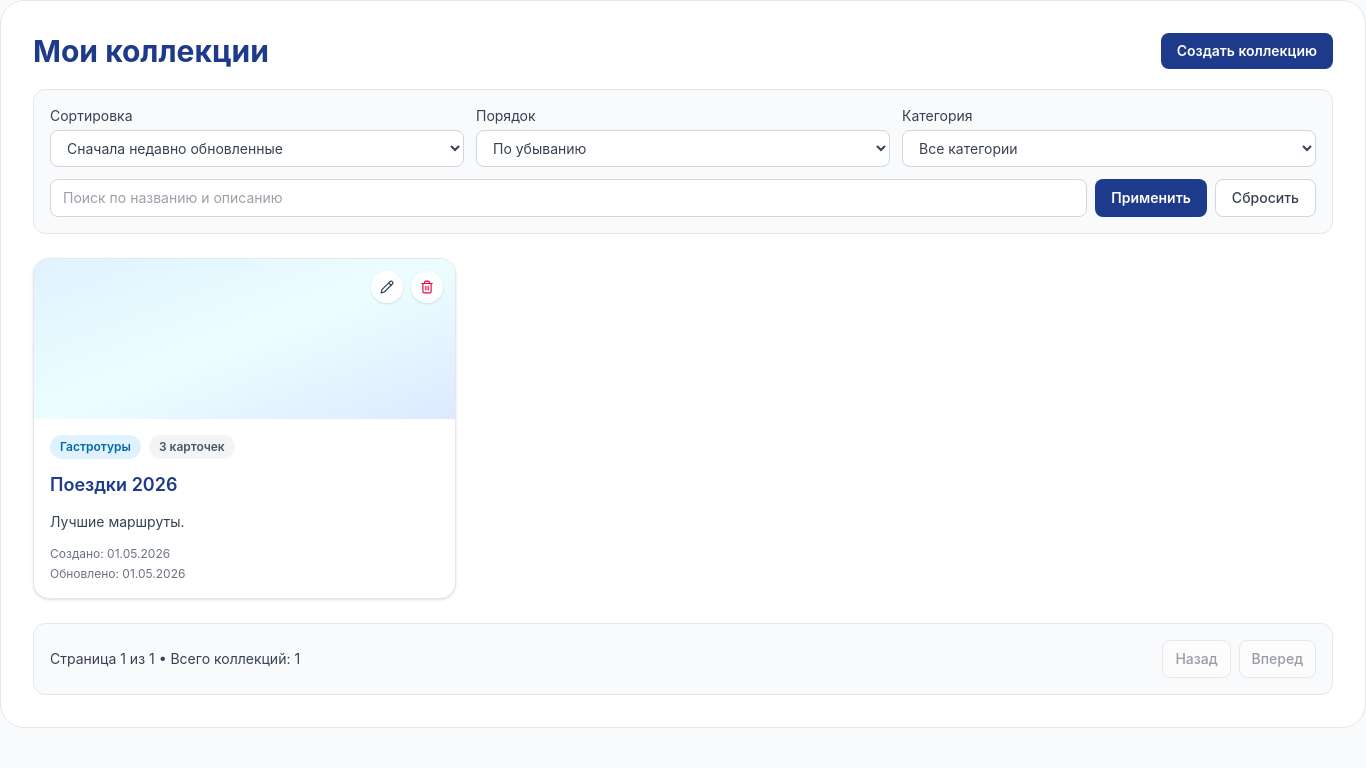
Test: CollectionsPage › shows submit error inside create form
Expected: the heading "Мои коллекции" is shown, [33, 33, 269, 69]
Click the button "Создать коллекцию".
click(1247, 51)  # box [1161, 33, 1333, 69]
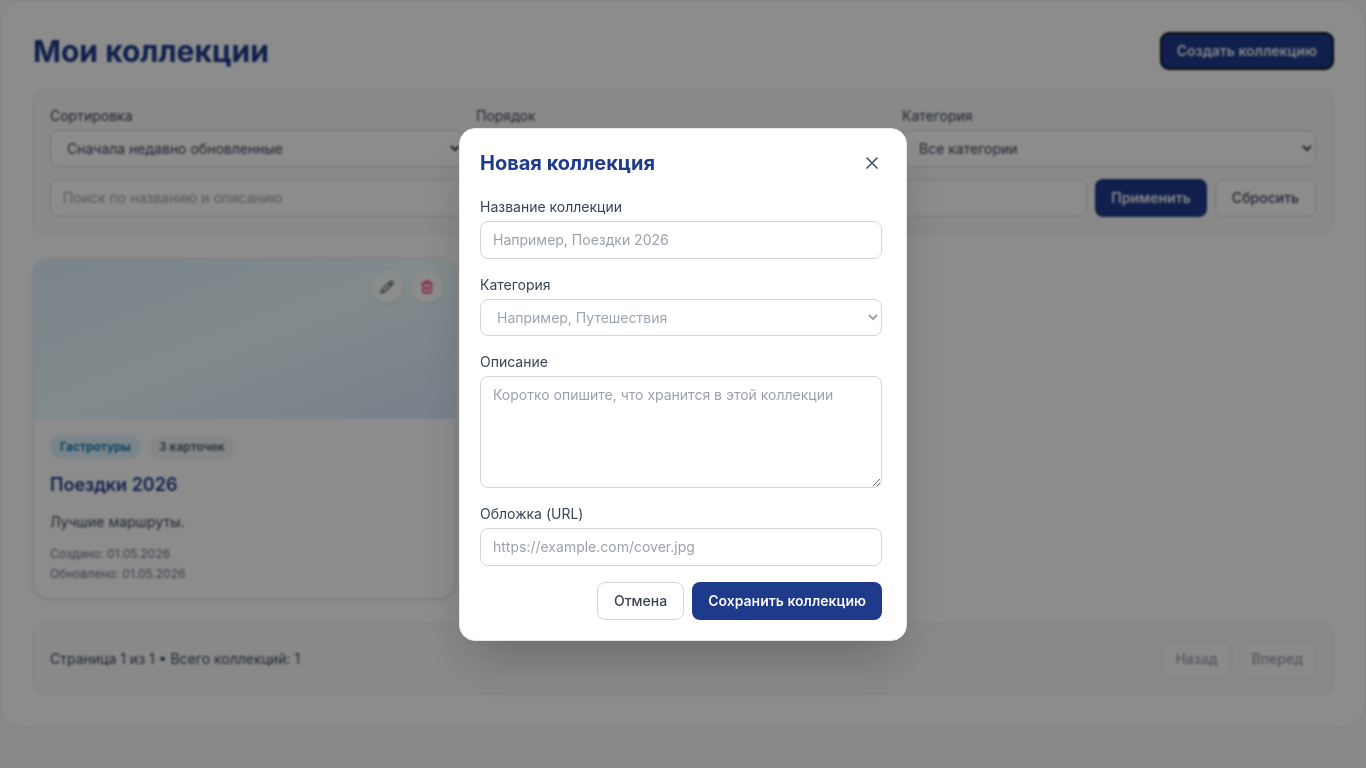
Type "Поездки 2026" into the field labelled "Название коллекции".
click(681, 240); type("Поездки 2026")  # box [480, 220, 882, 258]
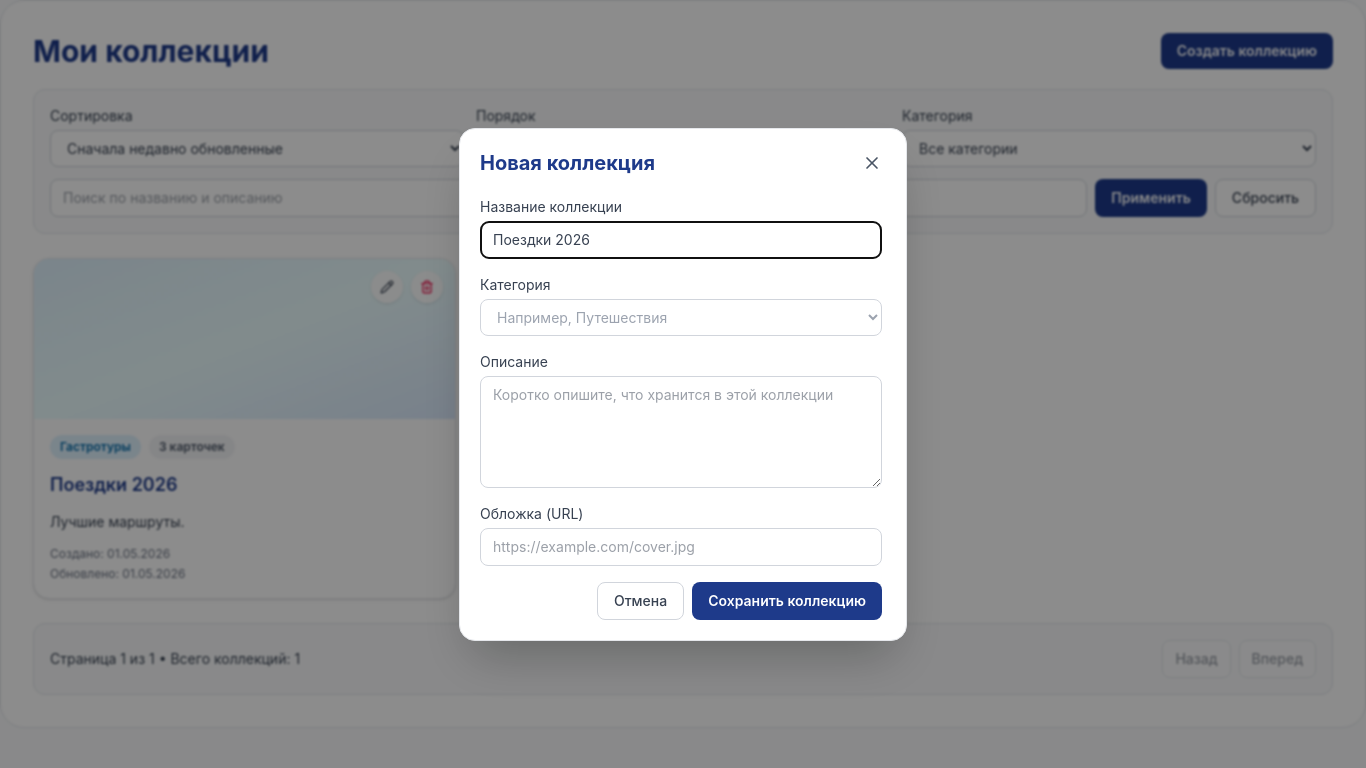
Select "Свой вариант" in the dropdown labelled "Категория" at (681, 317), box [480, 298, 882, 336]
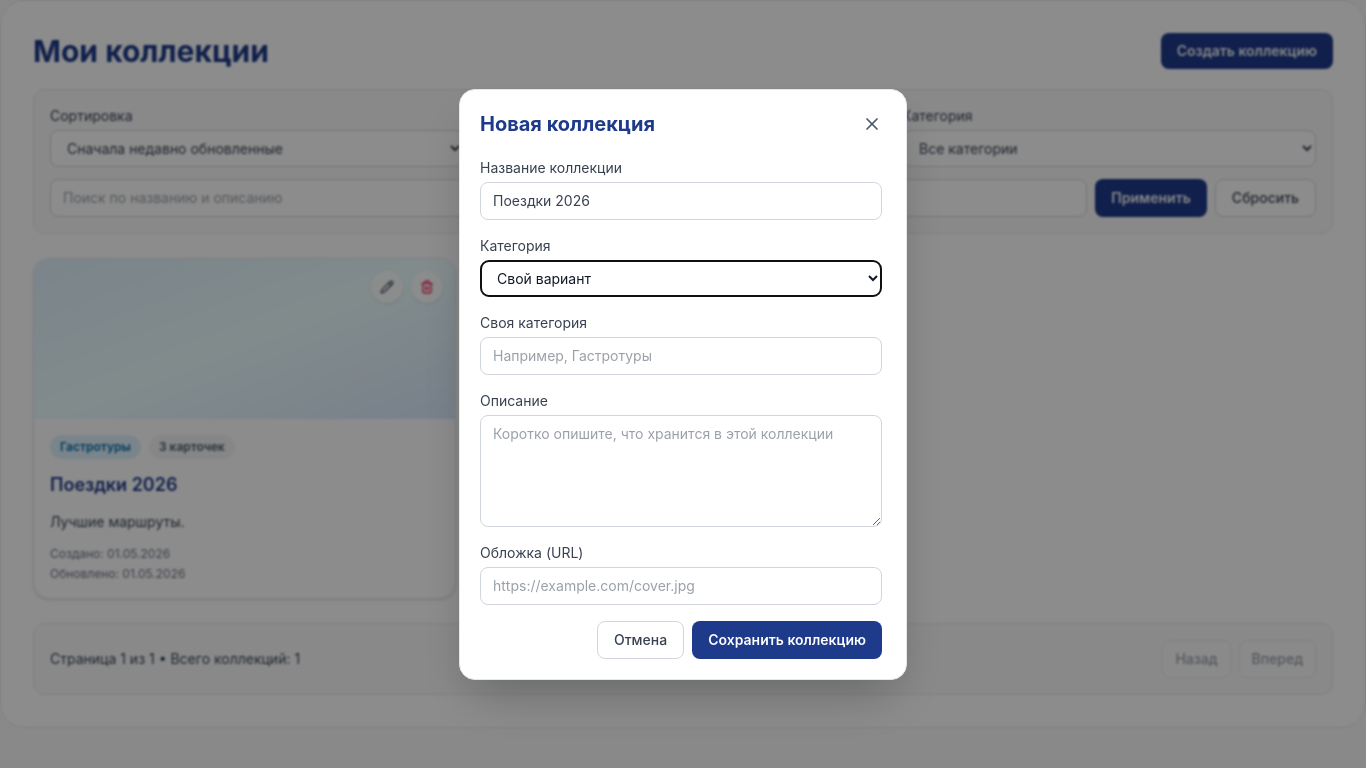
Type "Гастротуры" into the field labelled "Своя категория".
click(681, 356); type("Гастротуры")  # box [480, 336, 882, 374]
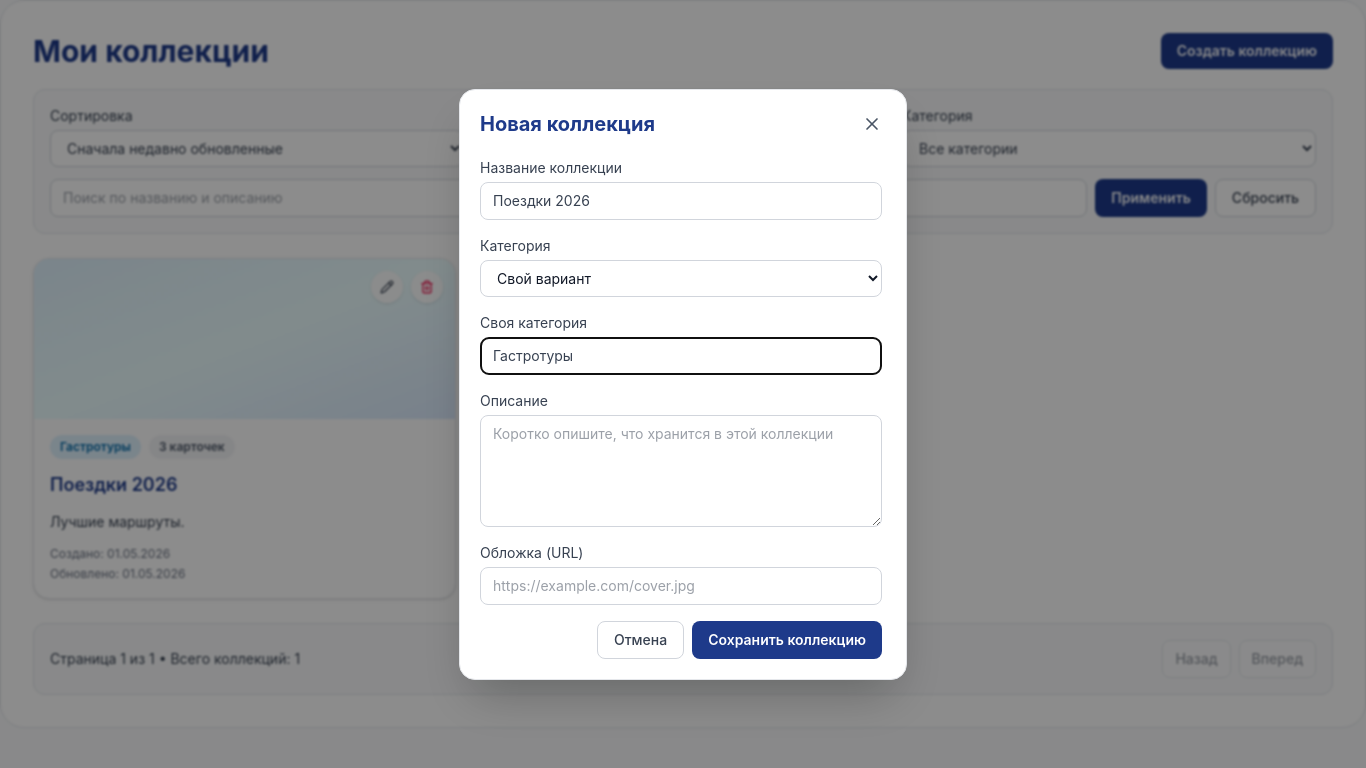
Click the button "Сохранить коллекцию".
click(787, 640)  # box [692, 620, 882, 658]
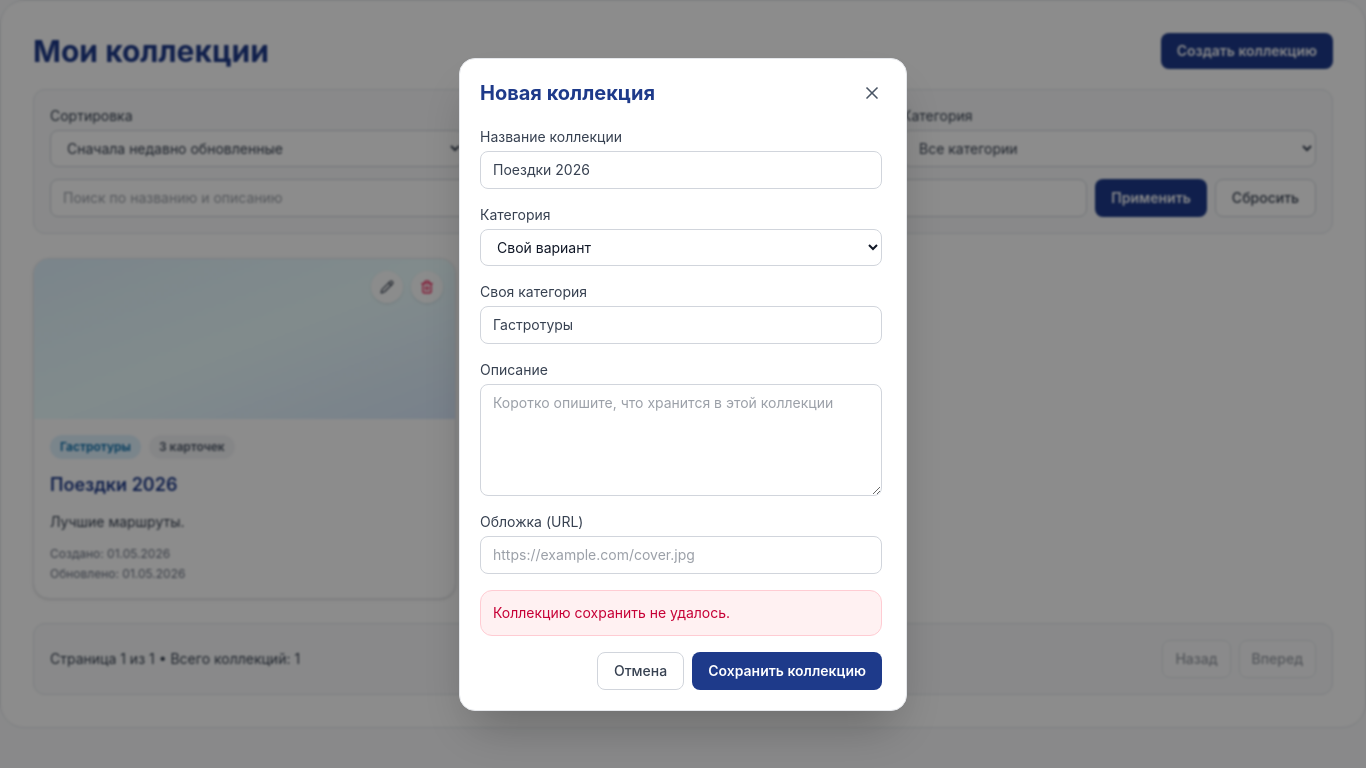
Result: the text "Коллекцию сохранить не удалось." is shown at [480, 590, 882, 636]
